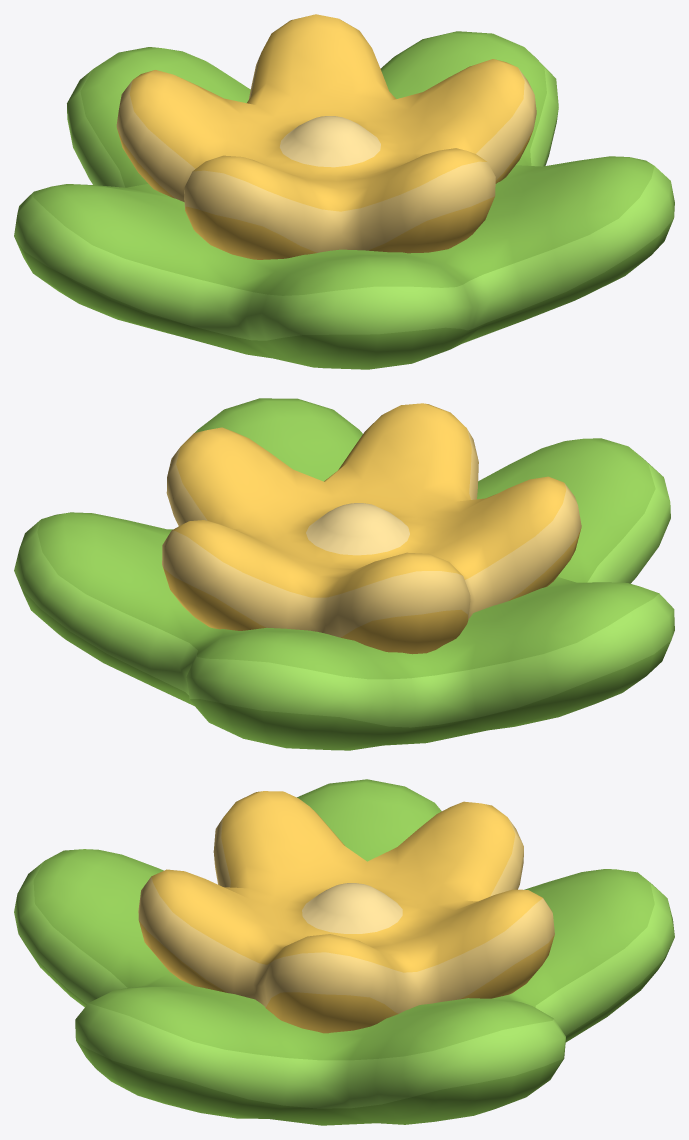
The model's file is Character_Plant3.fbx.
3 renders of one model, top to bottom at view 1: azimuth 30°, elevation 25°; view 2: azimuth 150°, elevation 25°; view 3: azimuth 270°, elevation 25°, orthographic. The views are drawn at different scales.
Parts seen in each view (by area): view 1: flower_yellow; view 2: flower_yellow; view 3: flower_yellow.
Part boxes in pixels (box(x1,y1,x2,y2)): flower_yellow: box(14, 14, 674, 369); flower_yellow: box(14, 398, 674, 750); flower_yellow: box(14, 779, 674, 1125).
Bounding box in the file's own units: 101 × 36.16 × 103.
Materials: 1 (1 with a texture image).
